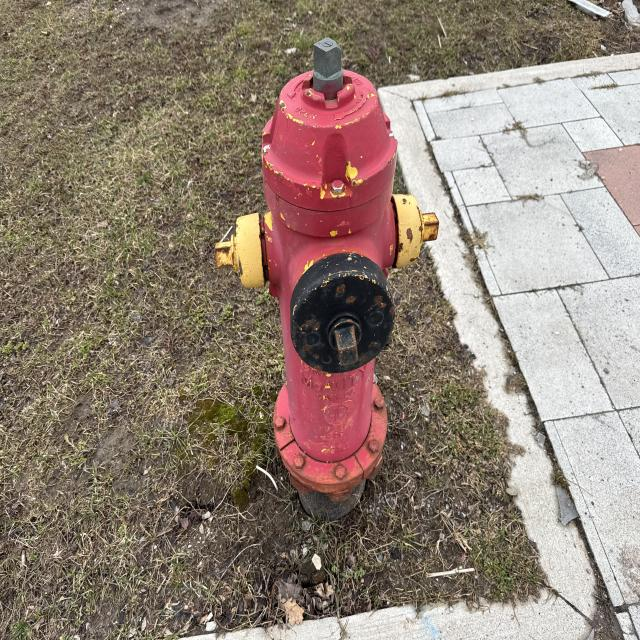Fire hydrant: (214, 37, 440, 504)
